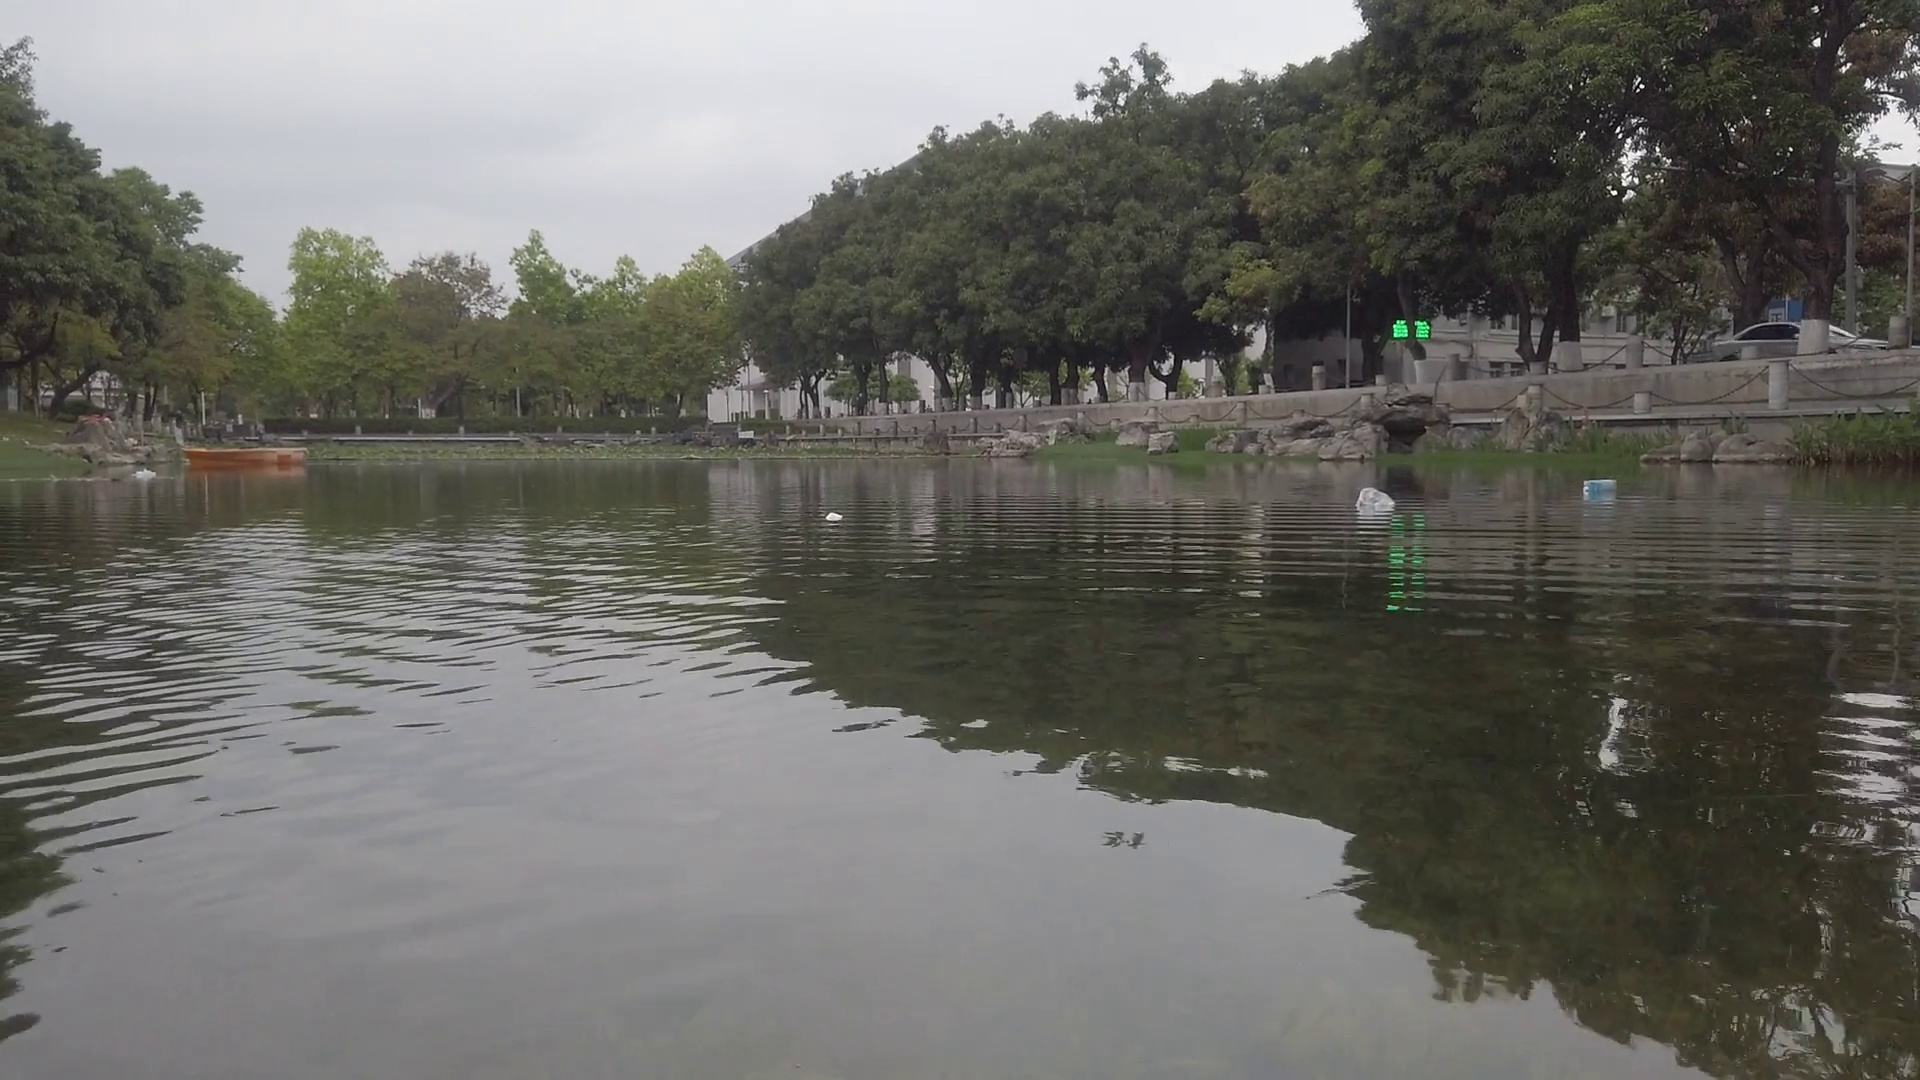carton: (1582, 477, 1619, 491), (825, 509, 845, 521)
plastic: (1356, 483, 1394, 510), (132, 469, 156, 483)
